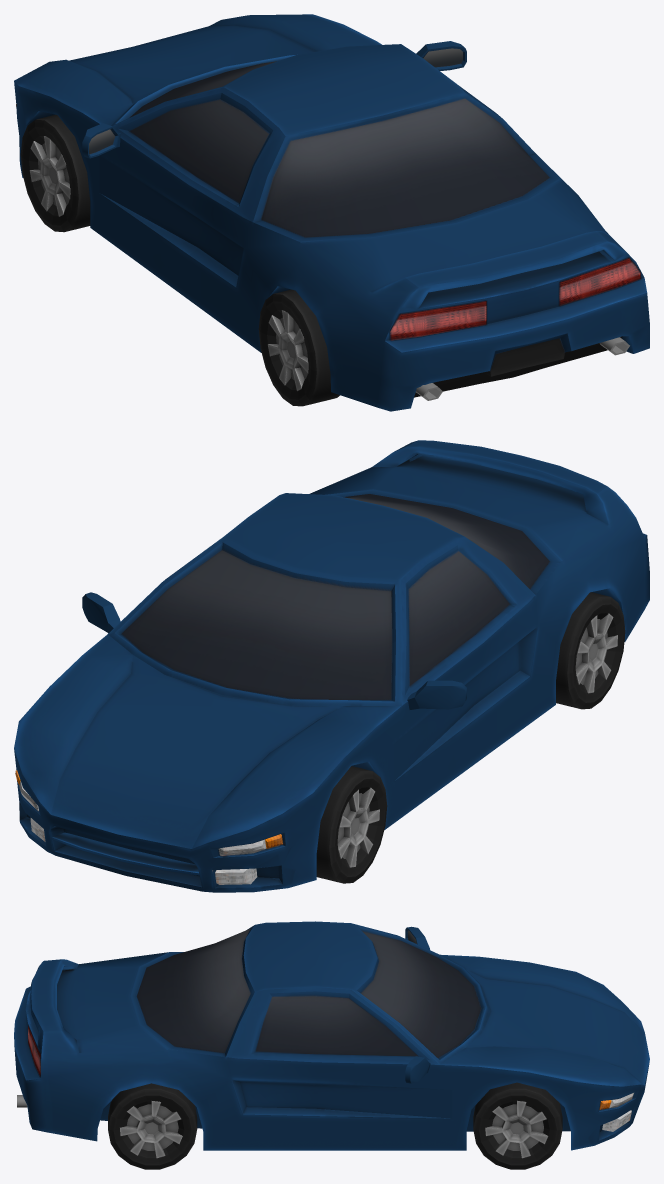
The model's file is sportcar.fbx.
The picture shows the model from 3 angles, top to bottom: view 1: azimuth 30°, elevation 25°; view 2: azimuth 150°, elevation 25°; view 3: azimuth 270°, elevation 25°; orthographic projection. The views are drawn at different scales.
Visible parts, largest first — view 1: sports_car; view 2: sports_car; view 3: sports_car.
Part boxes in pixels (x1,y1,x2,y2): sports_car: [14, 14, 649, 411]; sports_car: [14, 440, 649, 892]; sports_car: [14, 921, 649, 1169].
Bounding box in the file's own units: 790 × 414 × 1478.
Materials: 1 (1 with a texture image).
